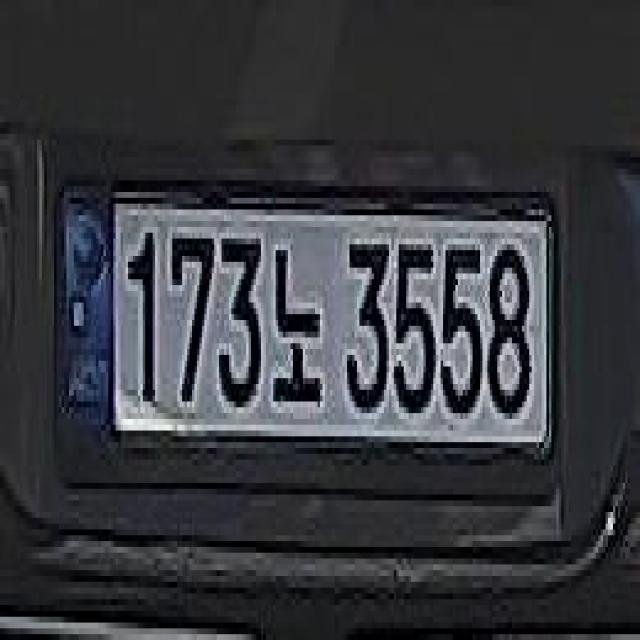illegal_plate: (49, 169, 565, 498)
